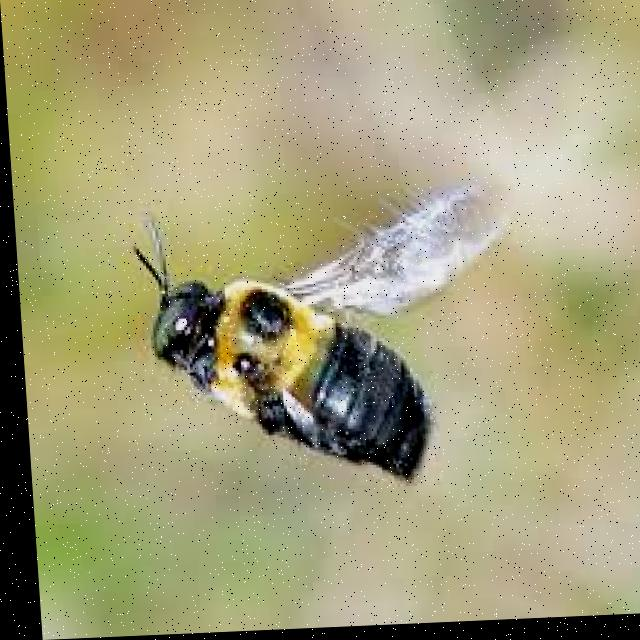Xylocopa: (111, 173, 512, 506)
